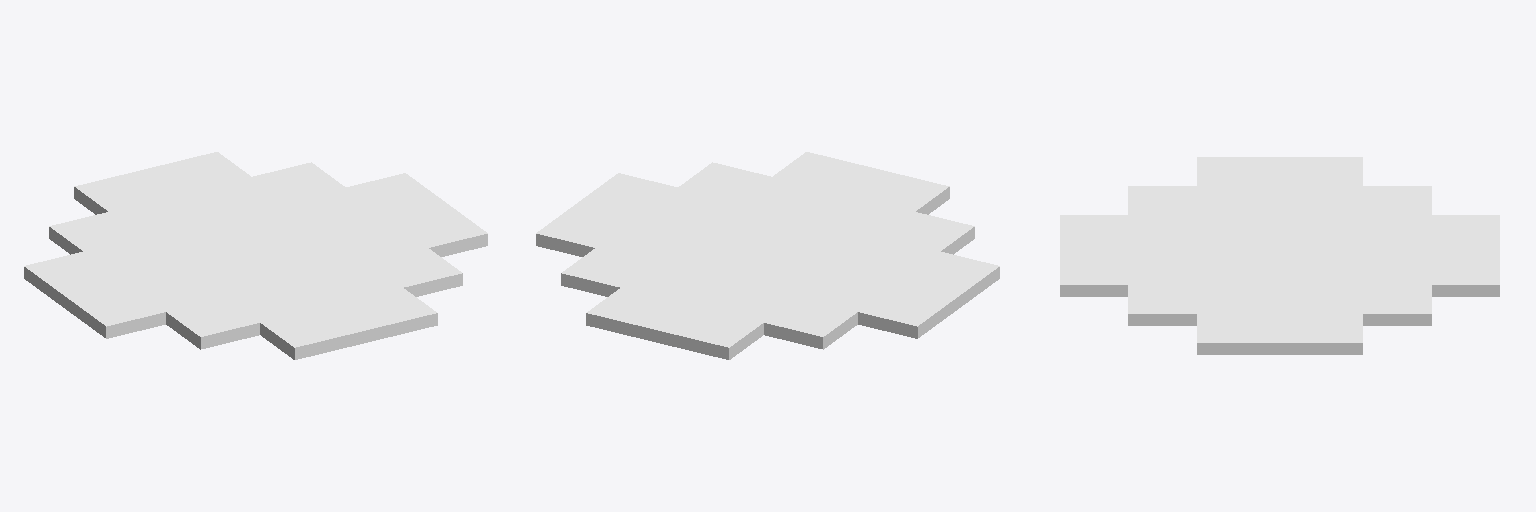
File: Junction.obj
3 views of the same model, side by side, from view 1: azimuth 30°, elevation 25°; view 2: azimuth 150°, elevation 25°; view 3: azimuth 270°, elevation 25° (orthographic).
Bounding box in the file's own units: 64 × 2 × 64.